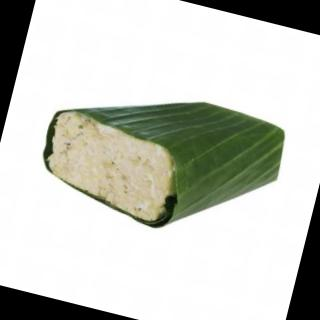Tempe: (29, 66, 293, 256)
